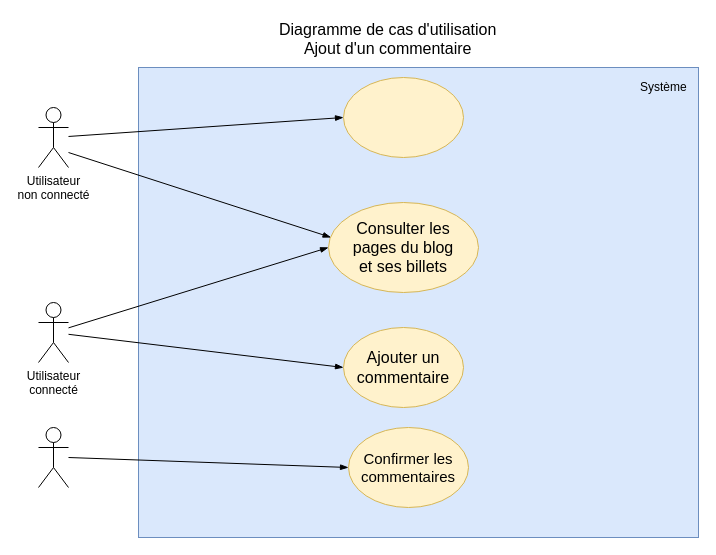
This 716x555 diagram has some shape labels left out. The centre of each missing label's shape, as x and y in pixels:
Admin: point 53,457
S'inscrire: point 403,117
